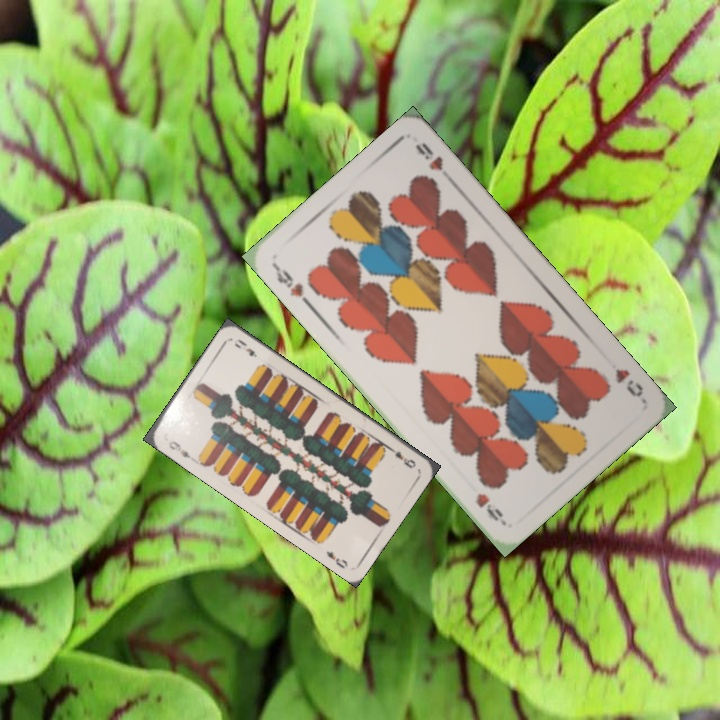E9: (384, 443, 418, 471), (165, 436, 193, 461)
H9: (269, 260, 306, 300), (610, 364, 646, 400)
